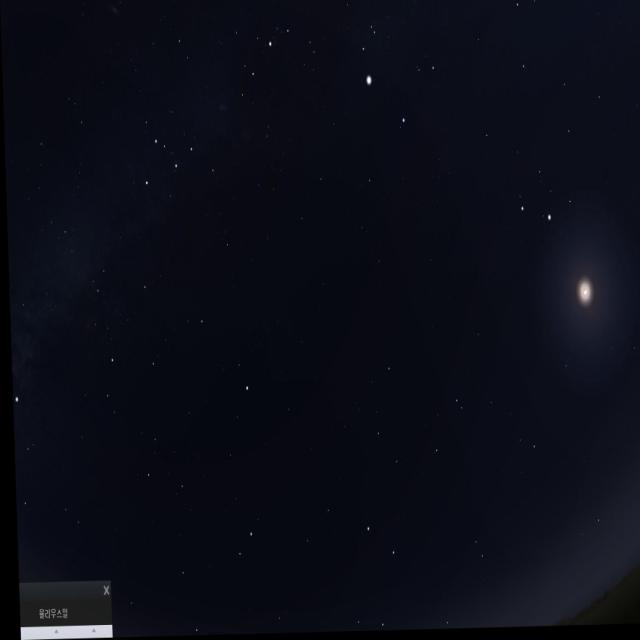cassiopeia: (130, 119, 226, 199)
moon: (561, 244, 605, 340)
